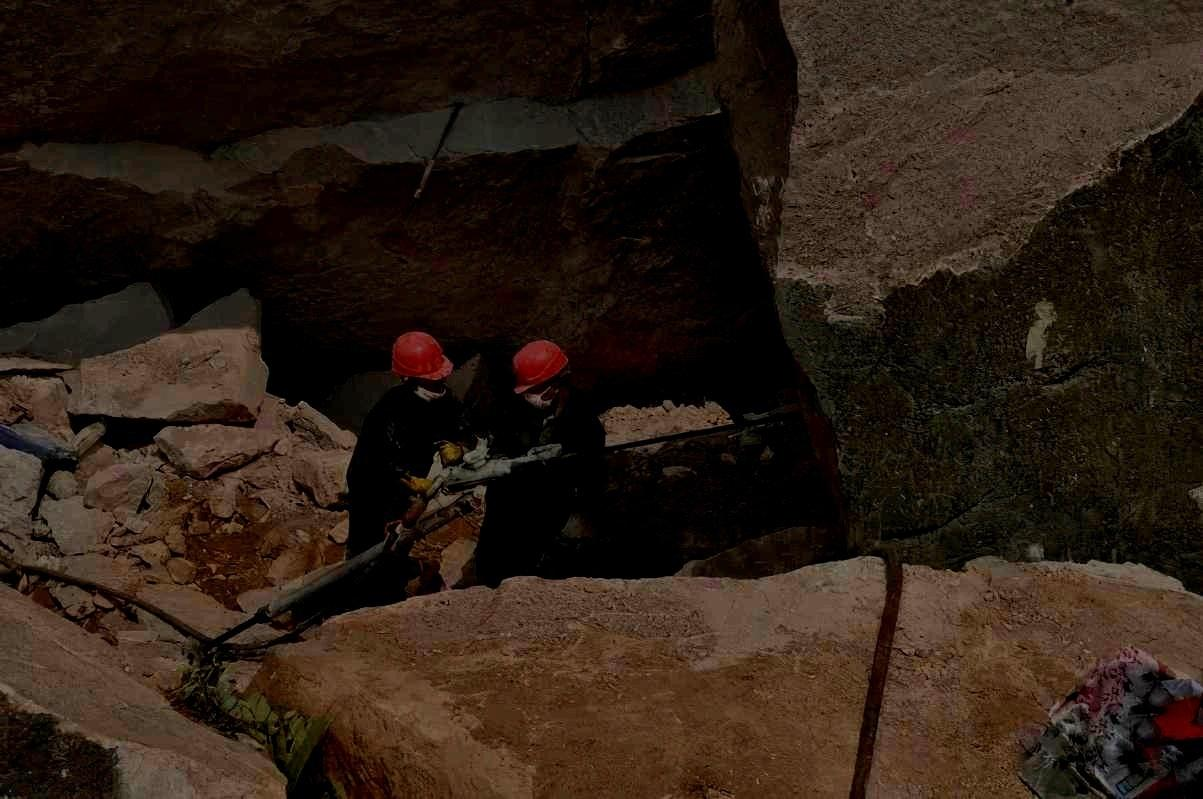helmet: (391, 331, 453, 400), (511, 339, 569, 407)
